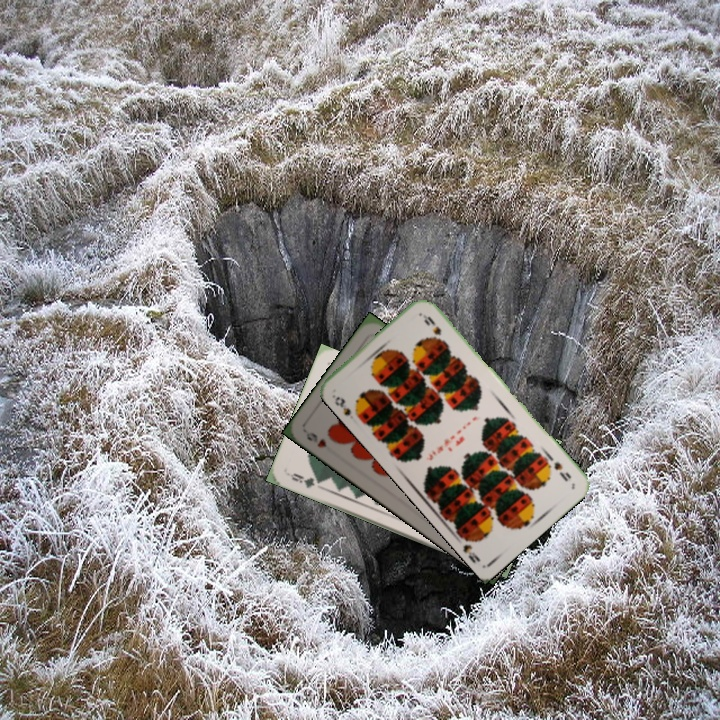G9: (286, 469, 324, 491)
H9: (302, 428, 329, 450)
S9: (543, 452, 574, 484), (330, 392, 364, 421)
